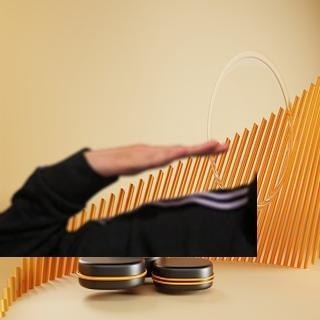WAIT: (86, 134, 230, 184)
